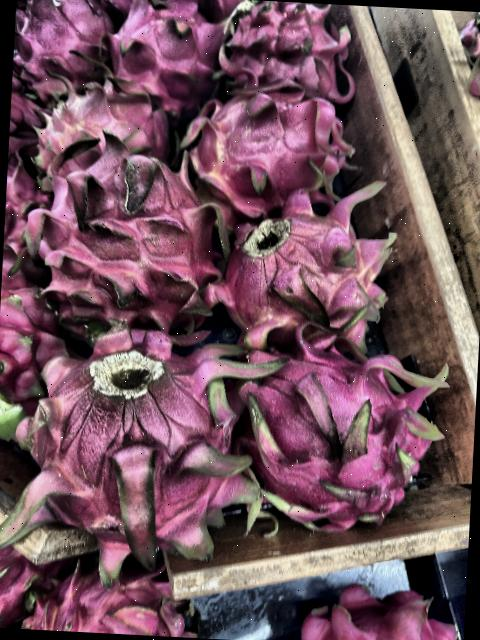buah-naga-belum-matang: (27, 66, 182, 165)
buah-naga-matang: (17, 316, 264, 562), (230, 327, 456, 526), (19, 136, 228, 332), (208, 206, 399, 343), (190, 82, 352, 214), (217, 0, 351, 99), (28, 562, 186, 637), (107, 0, 222, 98), (12, 0, 123, 95), (279, 586, 465, 640), (0, 278, 61, 408)
